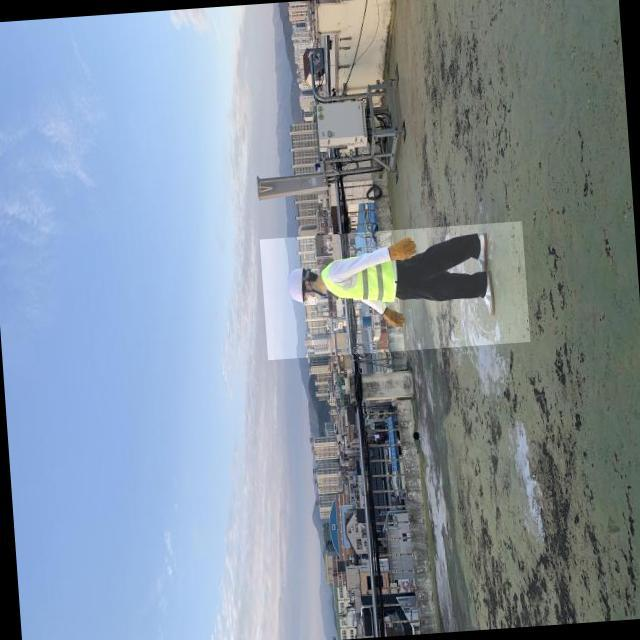Gloves: (386, 234, 423, 271), (383, 305, 412, 338)
Helmet: (282, 265, 313, 310)
Person: (270, 227, 512, 343)
Safety Boot: (473, 233, 497, 277), (479, 276, 501, 320)
Safety Vest: (321, 247, 407, 304)
